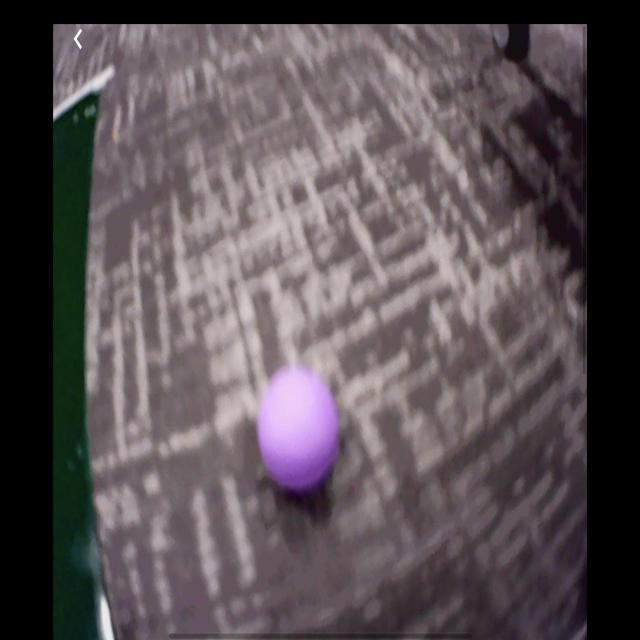ball: (261, 368, 339, 493)
